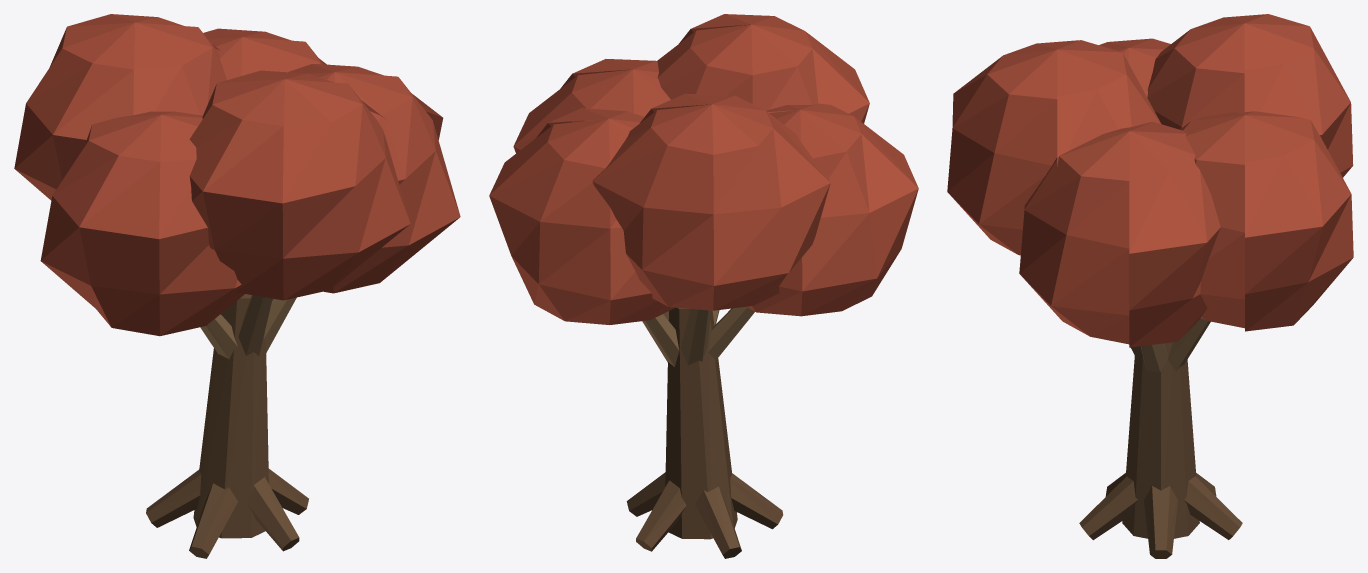
The model's file is crimson_fork.glb.
3 views of the same model, side by side, from view 1: azimuth 30°, elevation 25°; view 2: azimuth 150°, elevation 25°; view 3: azimuth 270°, elevation 25° (orthographic). The views are drawn at different scales.
Parts seen in each view (by area): view 1: WoodlandMesh; view 2: WoodlandMesh; view 3: WoodlandMesh.
Part boxes in pixels (x1,y1,x2,y2): WoodlandMesh: (14, 14, 460, 558); WoodlandMesh: (489, 14, 918, 558); WoodlandMesh: (947, 14, 1353, 558).
Size of the model in its own units: 4.72 by 5.72 by 4.39.
